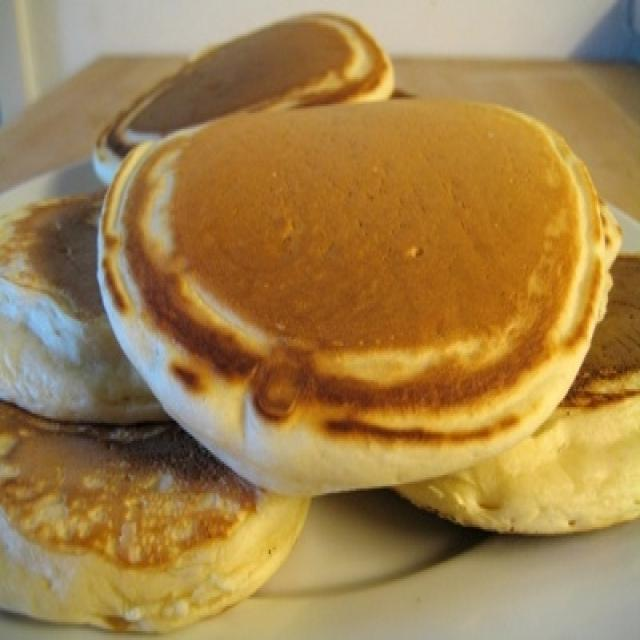蛋糕甜品: (13, 7, 616, 613)
